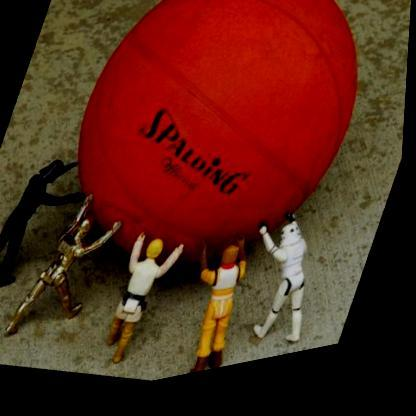basketball: (33, 0, 405, 337)
